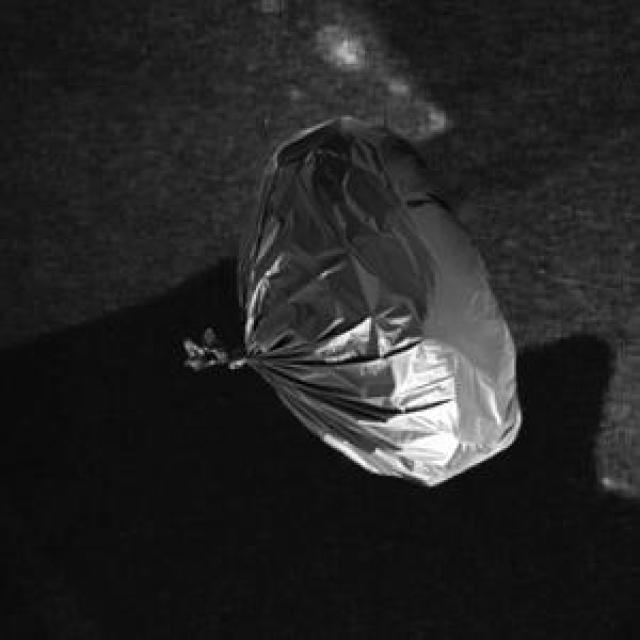miscellaneous trash: (181, 113, 516, 482)
